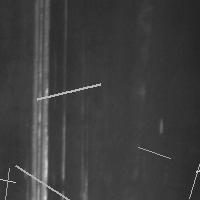scratches: (26, 1, 53, 200), (10, 160, 73, 200), (32, 79, 105, 104), (184, 113, 200, 200), (133, 142, 175, 163), (0, 163, 14, 200), (191, 135, 200, 176), (0, 169, 20, 187)
